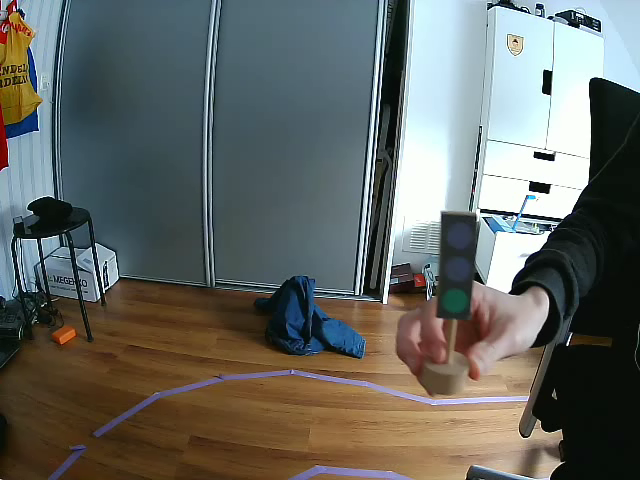groenlicht: (436, 214, 478, 321)
